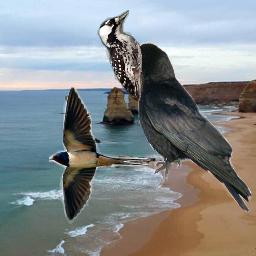Crow: (114, 42, 252, 213)
Swallow: (49, 85, 152, 224)
Woodpecker: (97, 10, 143, 101)
